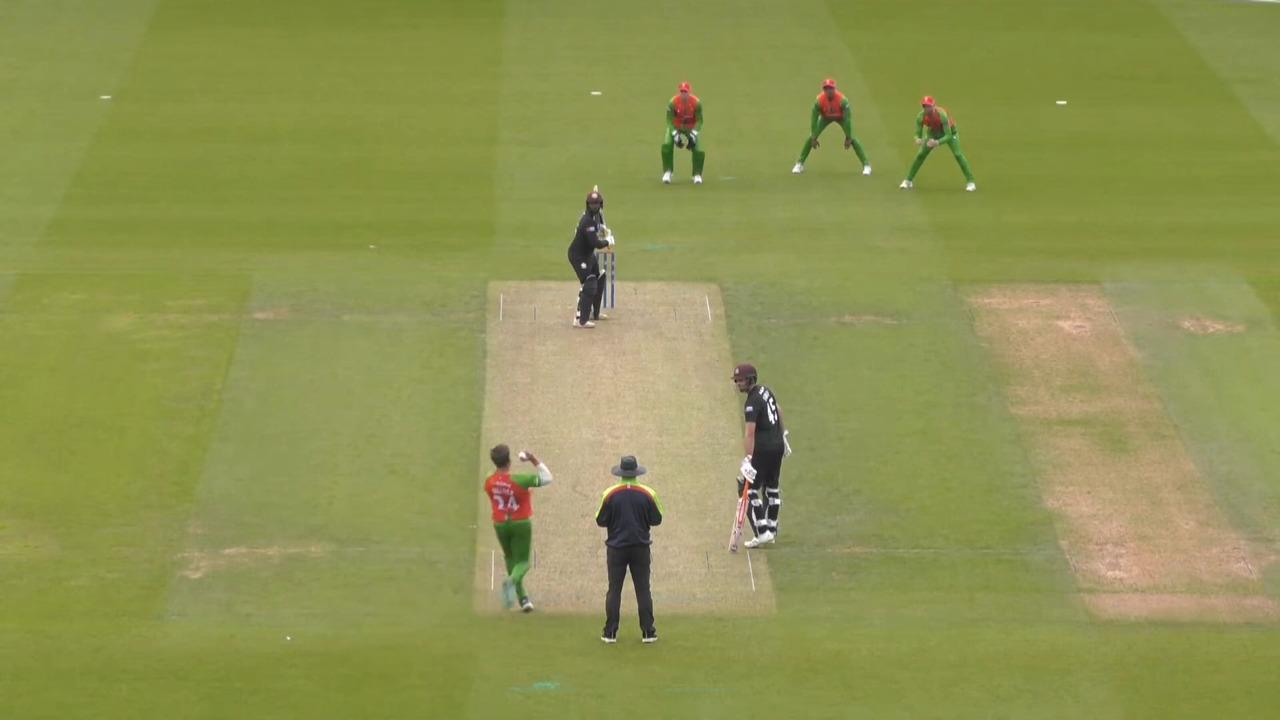sports ball: (519, 452, 526, 458)
